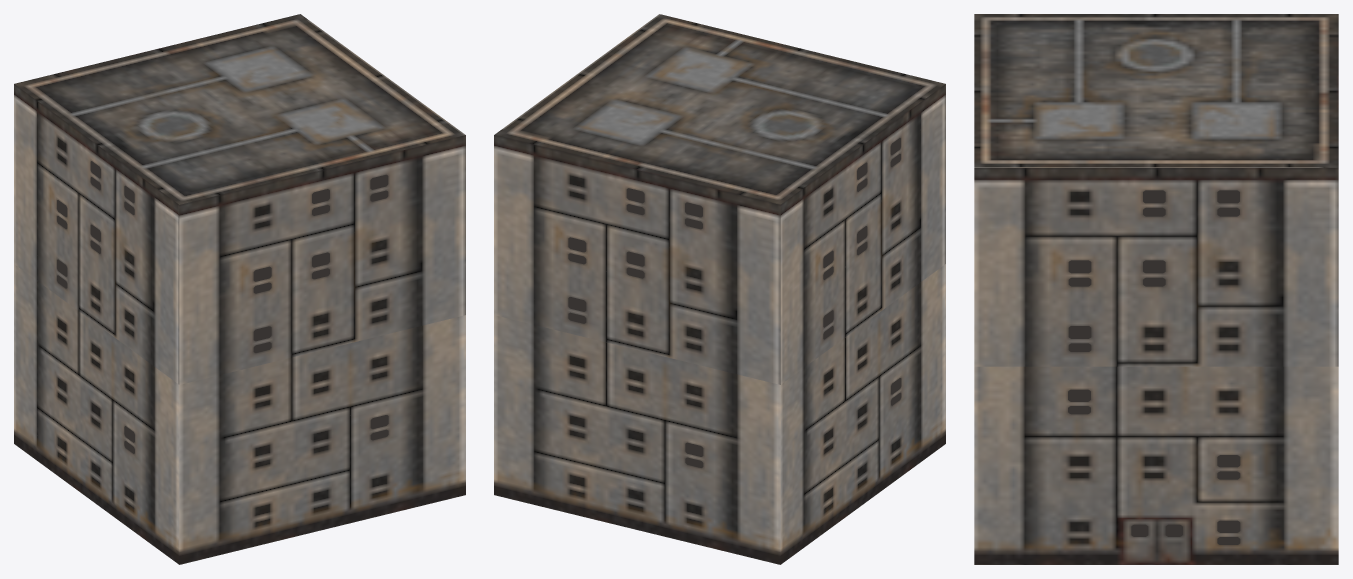
Rendered from city6storya.glb.
3 renders of one model, left to right at view 1: azimuth 30°, elevation 25°; view 2: azimuth 150°, elevation 25°; view 3: azimuth 270°, elevation 25°, orthographic. The views are drawn at different scales.
Visible parts, largest first — view 1: CityBlock8Story_A01, LitWin_City6Story; view 2: CityBlock8Story_A01, LitWin_City6Story; view 3: CityBlock8Story_A01, LitWin_City6Story.
Part boxes in pixels (box(x1,y1,x2,y2)): CityBlock8Story_A01: box(14, 14, 465, 564); LitWin_City6Story: box(57, 161, 388, 453); CityBlock8Story_A01: box(494, 14, 945, 564); LitWin_City6Story: box(568, 138, 901, 467); CityBlock8Story_A01: box(974, 14, 1338, 564); LitWin_City6Story: box(1068, 190, 1240, 544).
Size of the model in its own units: 17.76 by 21.34 by 17.76.
Materials: 1 (1 with a texture image).
